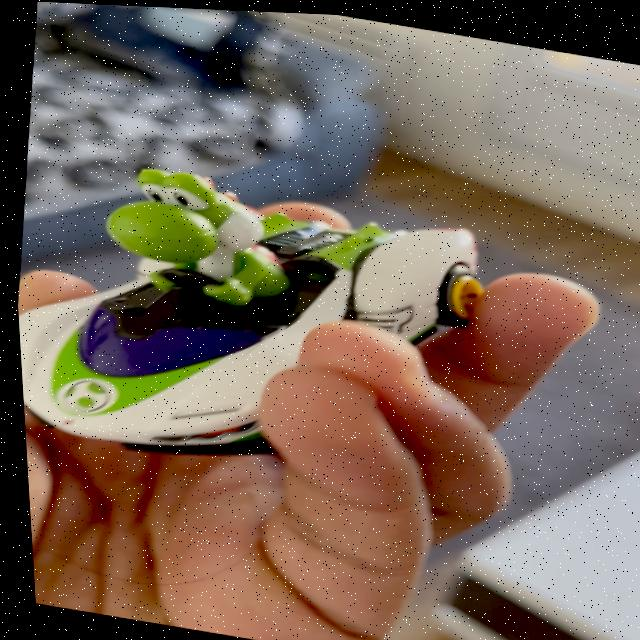yoshi: (6, 120, 538, 519)
